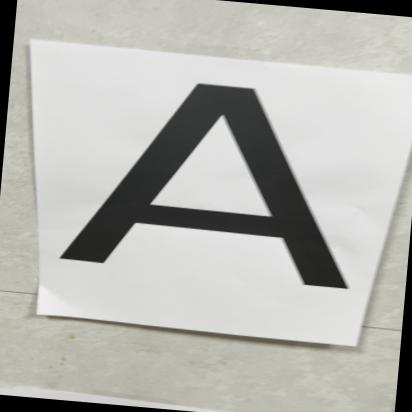seat: (31, 56, 382, 322)
